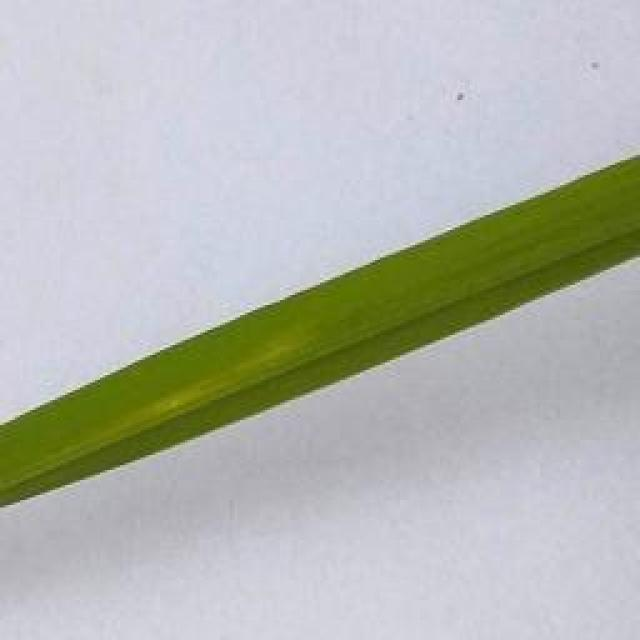Healthy-Plant: (0, 158, 640, 510)
